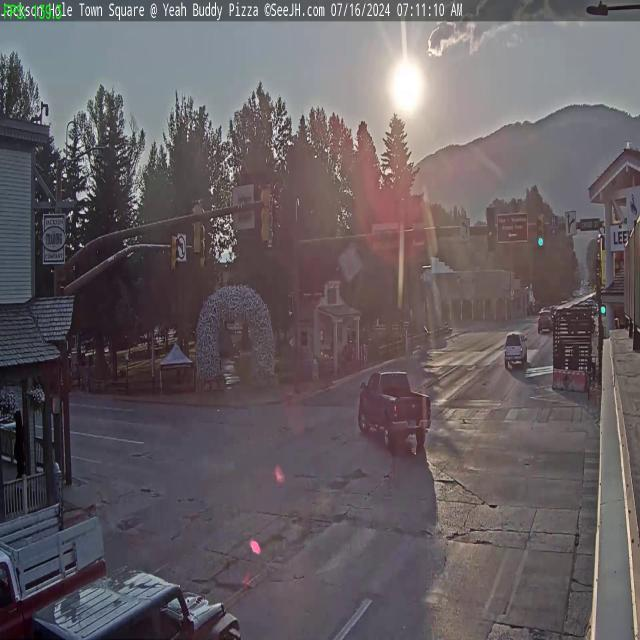pickup: (356, 370, 430, 449)
suv: (24, 556, 241, 640), (504, 331, 527, 366), (536, 308, 552, 332)
traffic light: (260, 184, 274, 244), (190, 200, 204, 256), (170, 230, 180, 280), (486, 207, 496, 252), (536, 214, 546, 248)
